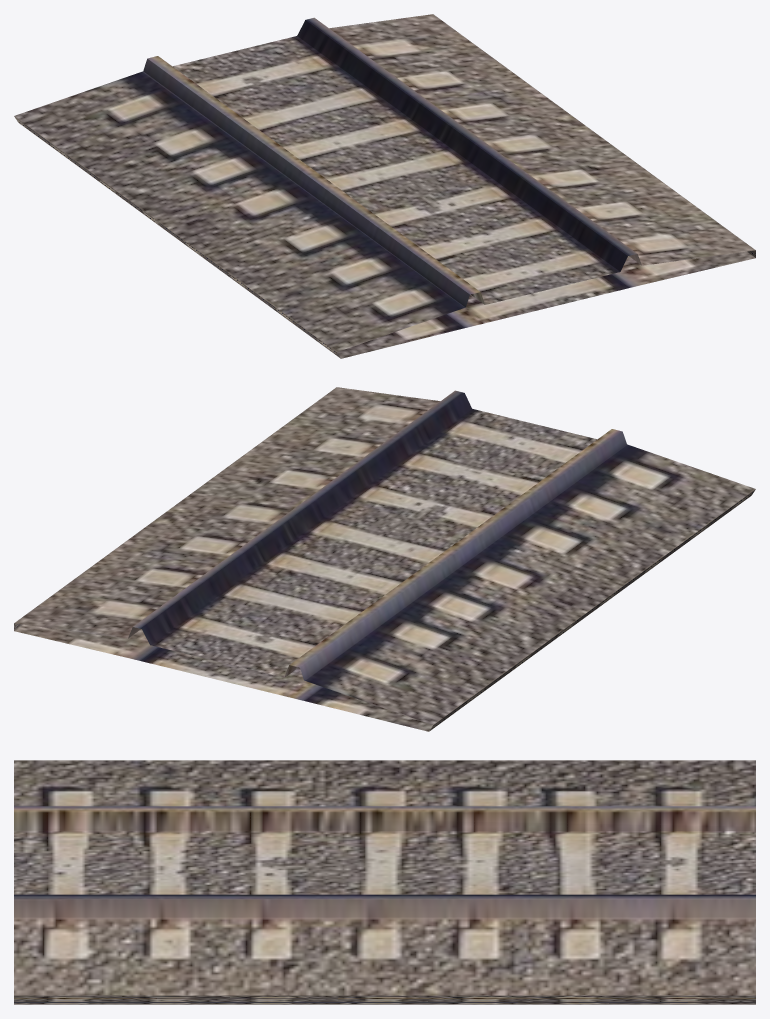
Rendered from track-tile.glb.
3 views of the same model, one above another, from view 1: azimuth 30°, elevation 25°; view 2: azimuth 150°, elevation 25°; view 3: azimuth 270°, elevation 25° (orthographic). The views are drawn at different scales.
Visible parts, largest first — view 1: Object_3; view 2: Object_3; view 3: Object_3.
Boxes of the visible parts, <box> form: Object_3: <box>14,14,755,358</box>; Object_3: <box>14,387,755,731</box>; Object_3: <box>14,760,755,1004</box>.
Size of the model in its own units: 0.75 by 0.0568 by 1.
1 material, 1 textured.
